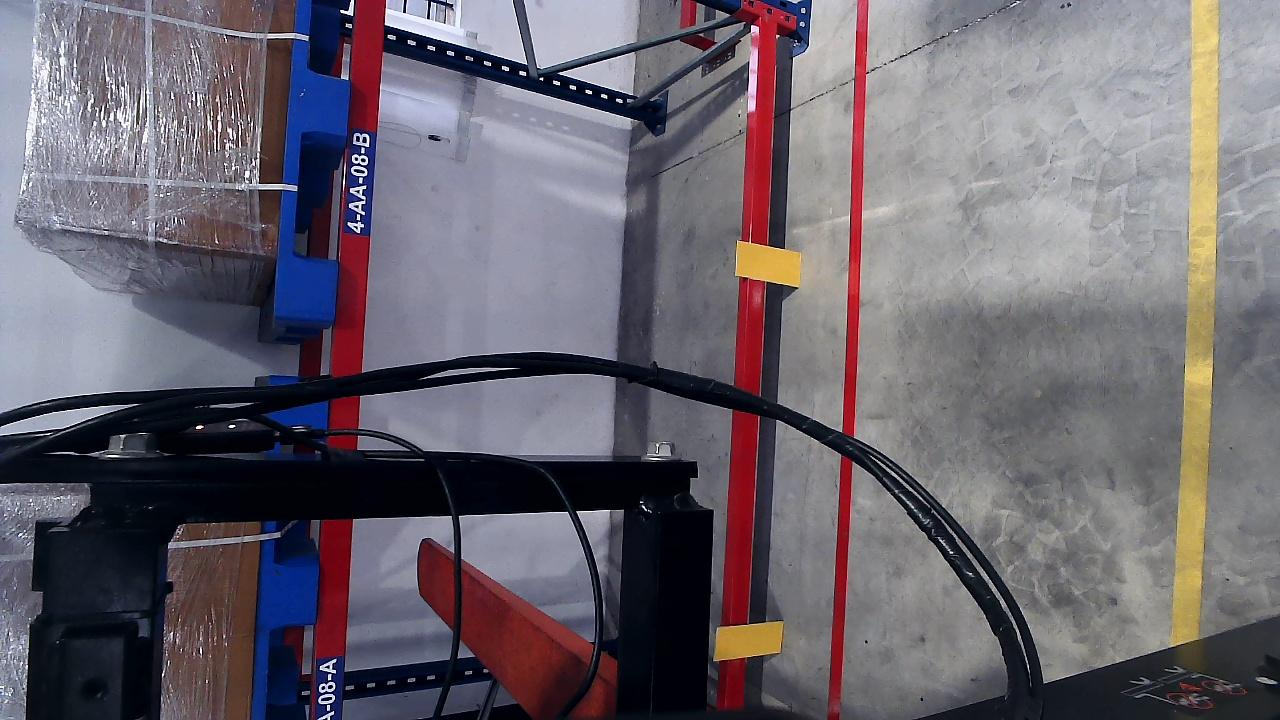h_rack: (719, 17, 768, 710), (329, 0, 390, 373), (311, 430, 360, 719)
orange_strip: (735, 241, 801, 287), (715, 621, 784, 661)
red_line: (837, 9, 866, 557)
small_pallet: (268, 1, 361, 318)
yellow_line: (1172, 54, 1221, 657)
